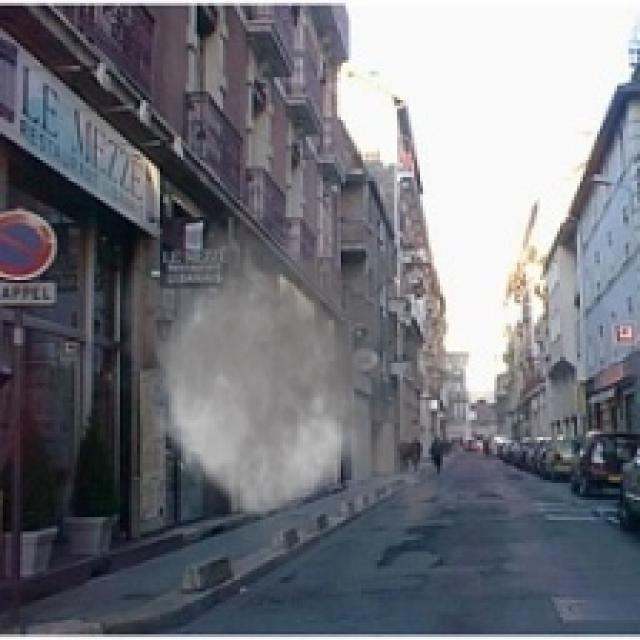Smoke: (106, 197, 448, 586)
